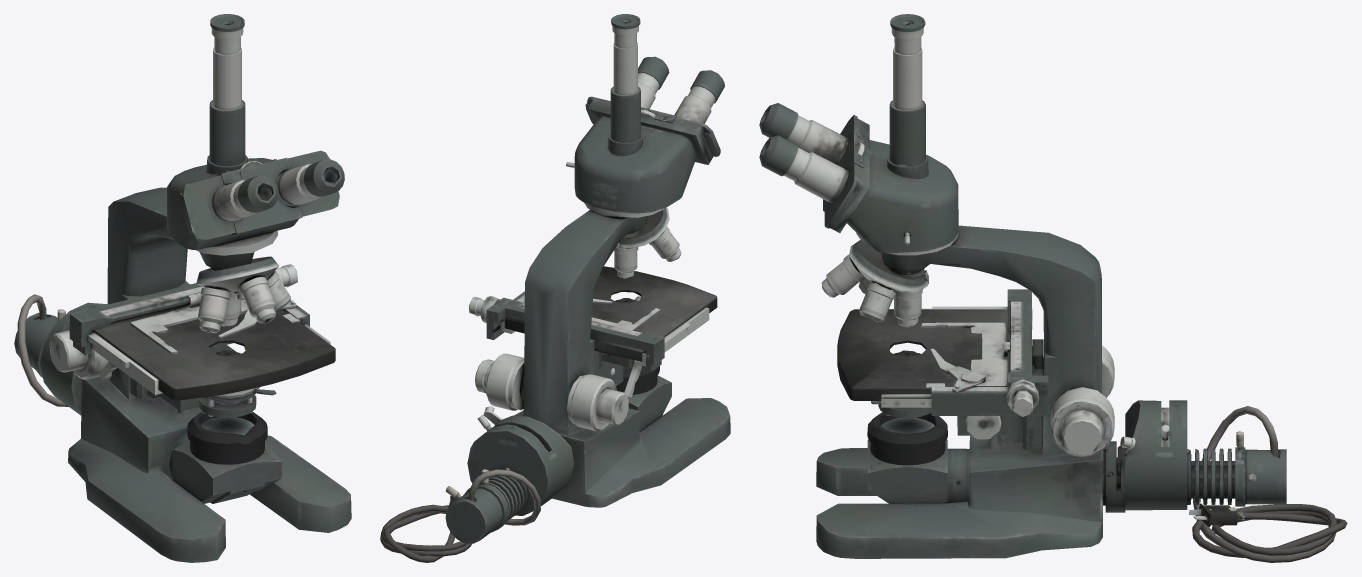
Rendered from industrial_microscope.glb.
3 renders of one model, left to right at view 1: azimuth 30°, elevation 25°; view 2: azimuth 150°, elevation 25°; view 3: azimuth 270°, elevation 25°, orthographic. The views are drawn at different scales.
Parts seen in each view (by area): view 1: industrial_microscope_cable; view 2: industrial_microscope_cable; view 3: industrial_microscope_cable.
Part boxes in pixels (<box>): industrial_microscope_cable: <box>14,14,351,562</box>; industrial_microscope_cable: <box>380,14,730,562</box>; industrial_microscope_cable: <box>759,14,1347,562</box>.
Size of the model in its own units: 0.2145 by 0.4617 by 0.4981.
1 material, 1 textured.
